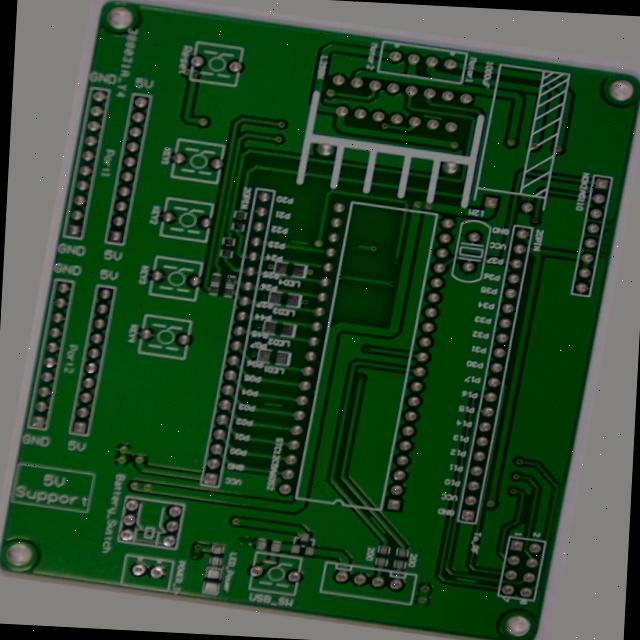spurious_copper: (264, 407, 294, 423), (268, 232, 301, 246), (402, 525, 424, 546), (506, 579, 536, 594), (401, 86, 431, 98)
